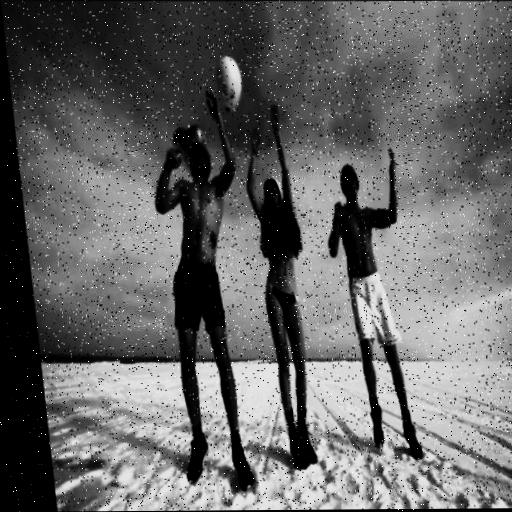balloon: (214, 54, 246, 112), (167, 125, 207, 169)
